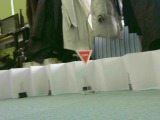stop: (74, 49, 94, 67)
